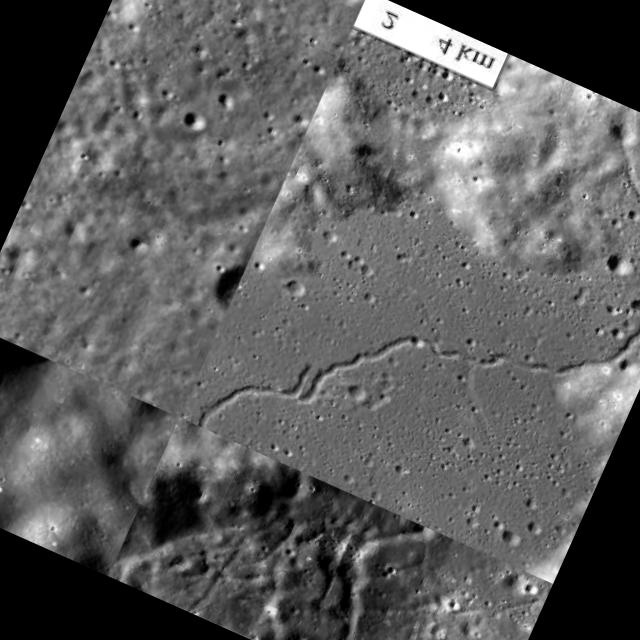crater: (181, 4, 640, 575), (74, 0, 340, 260), (176, 447, 453, 640)
